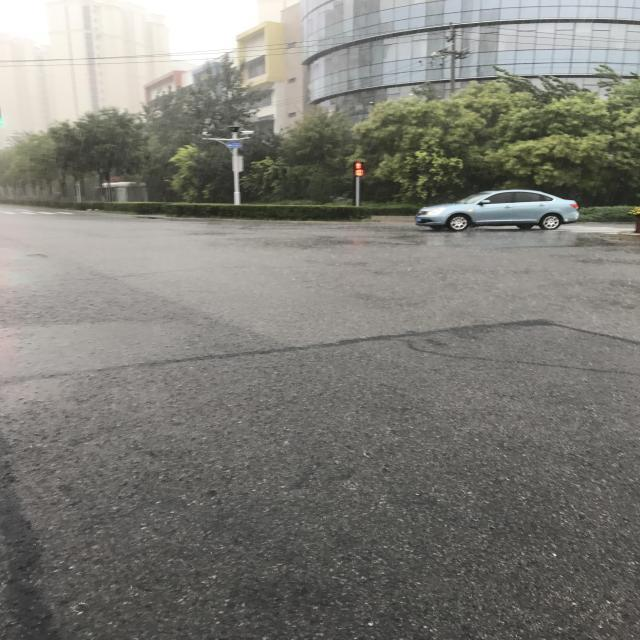car: (190, 61, 232, 226)
